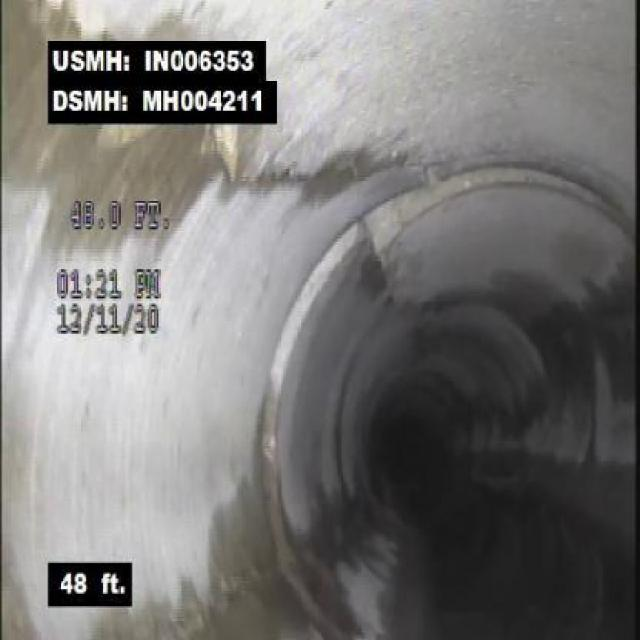Joint offset: (377, 162, 618, 229), (272, 213, 370, 364)
